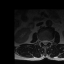CCS_normal: (44, 38, 47, 46)
LFS_normal: (48, 39, 50, 44)
LLS_normal: (47, 38, 49, 44)
RFS_normal: (40, 38, 42, 43)
RLS_normal: (42, 39, 44, 44)
